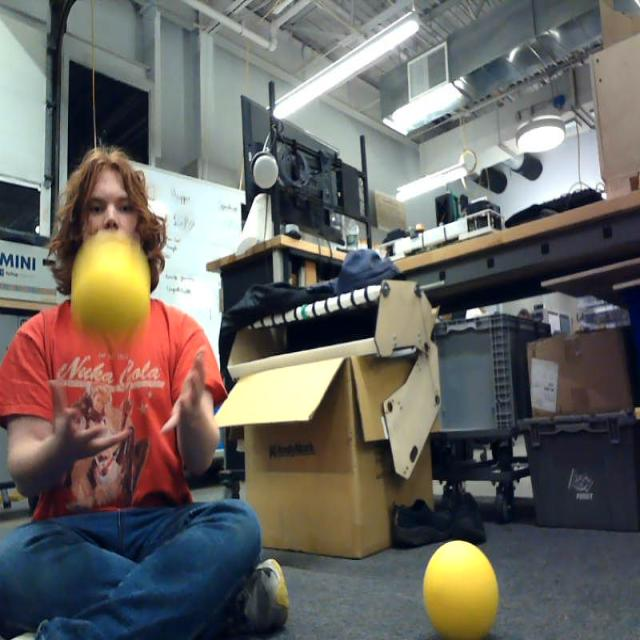Fuel: (422, 539, 499, 640), (73, 240, 150, 336)
